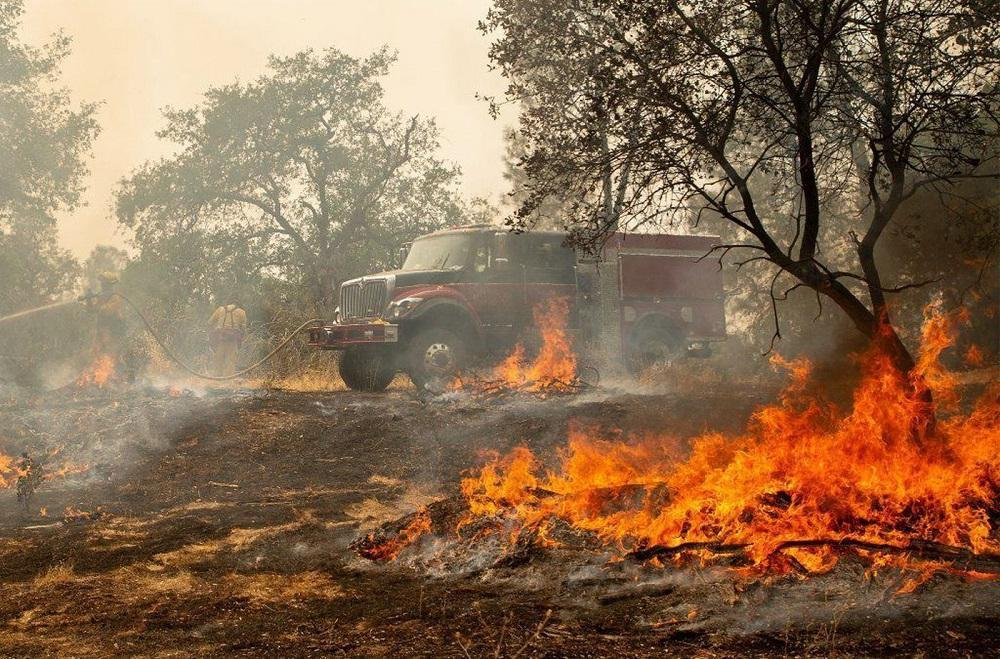Fire: (443, 304, 997, 579), (447, 293, 579, 397)
